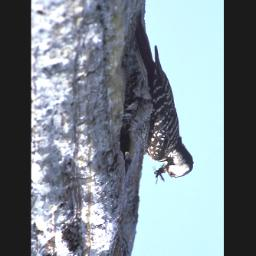Woodpecker: (120, 9, 194, 186)
